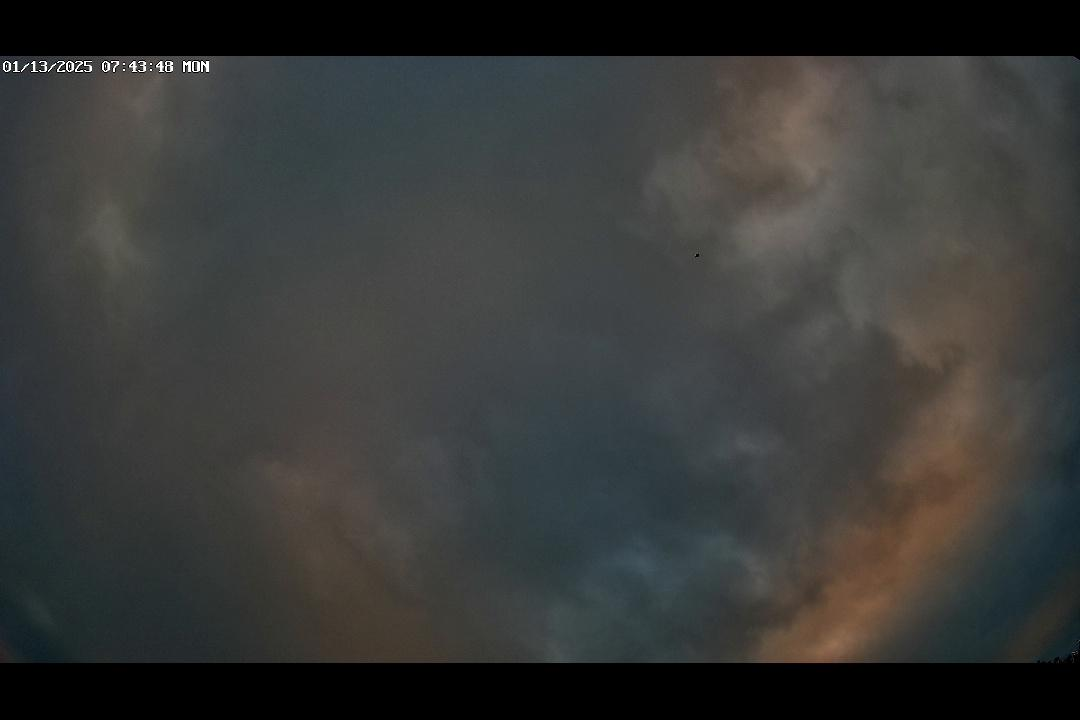WildLife: (686, 252, 707, 262)
